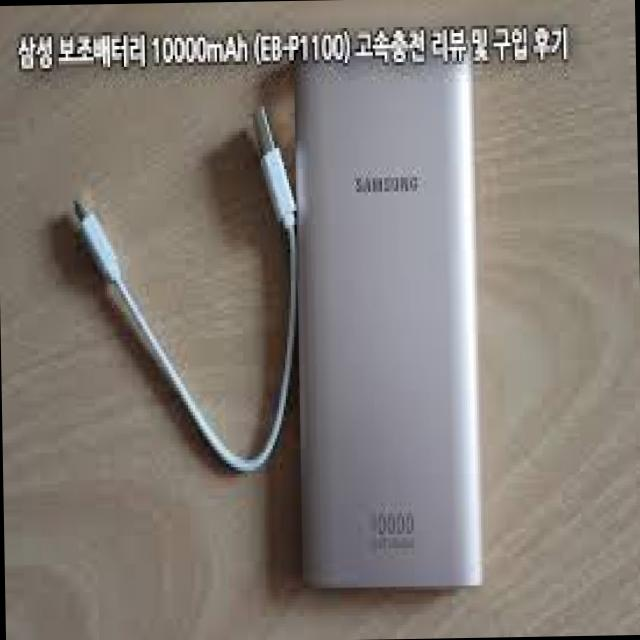power_bank: (296, 43, 478, 590)
